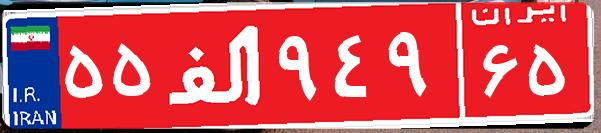4: (330, 28, 385, 110)
5: (57, 26, 110, 107), (110, 28, 158, 105), (525, 38, 570, 115)
6: (475, 38, 525, 113)
9: (385, 28, 445, 110), (273, 28, 330, 110)
الف: (158, 15, 273, 115)
